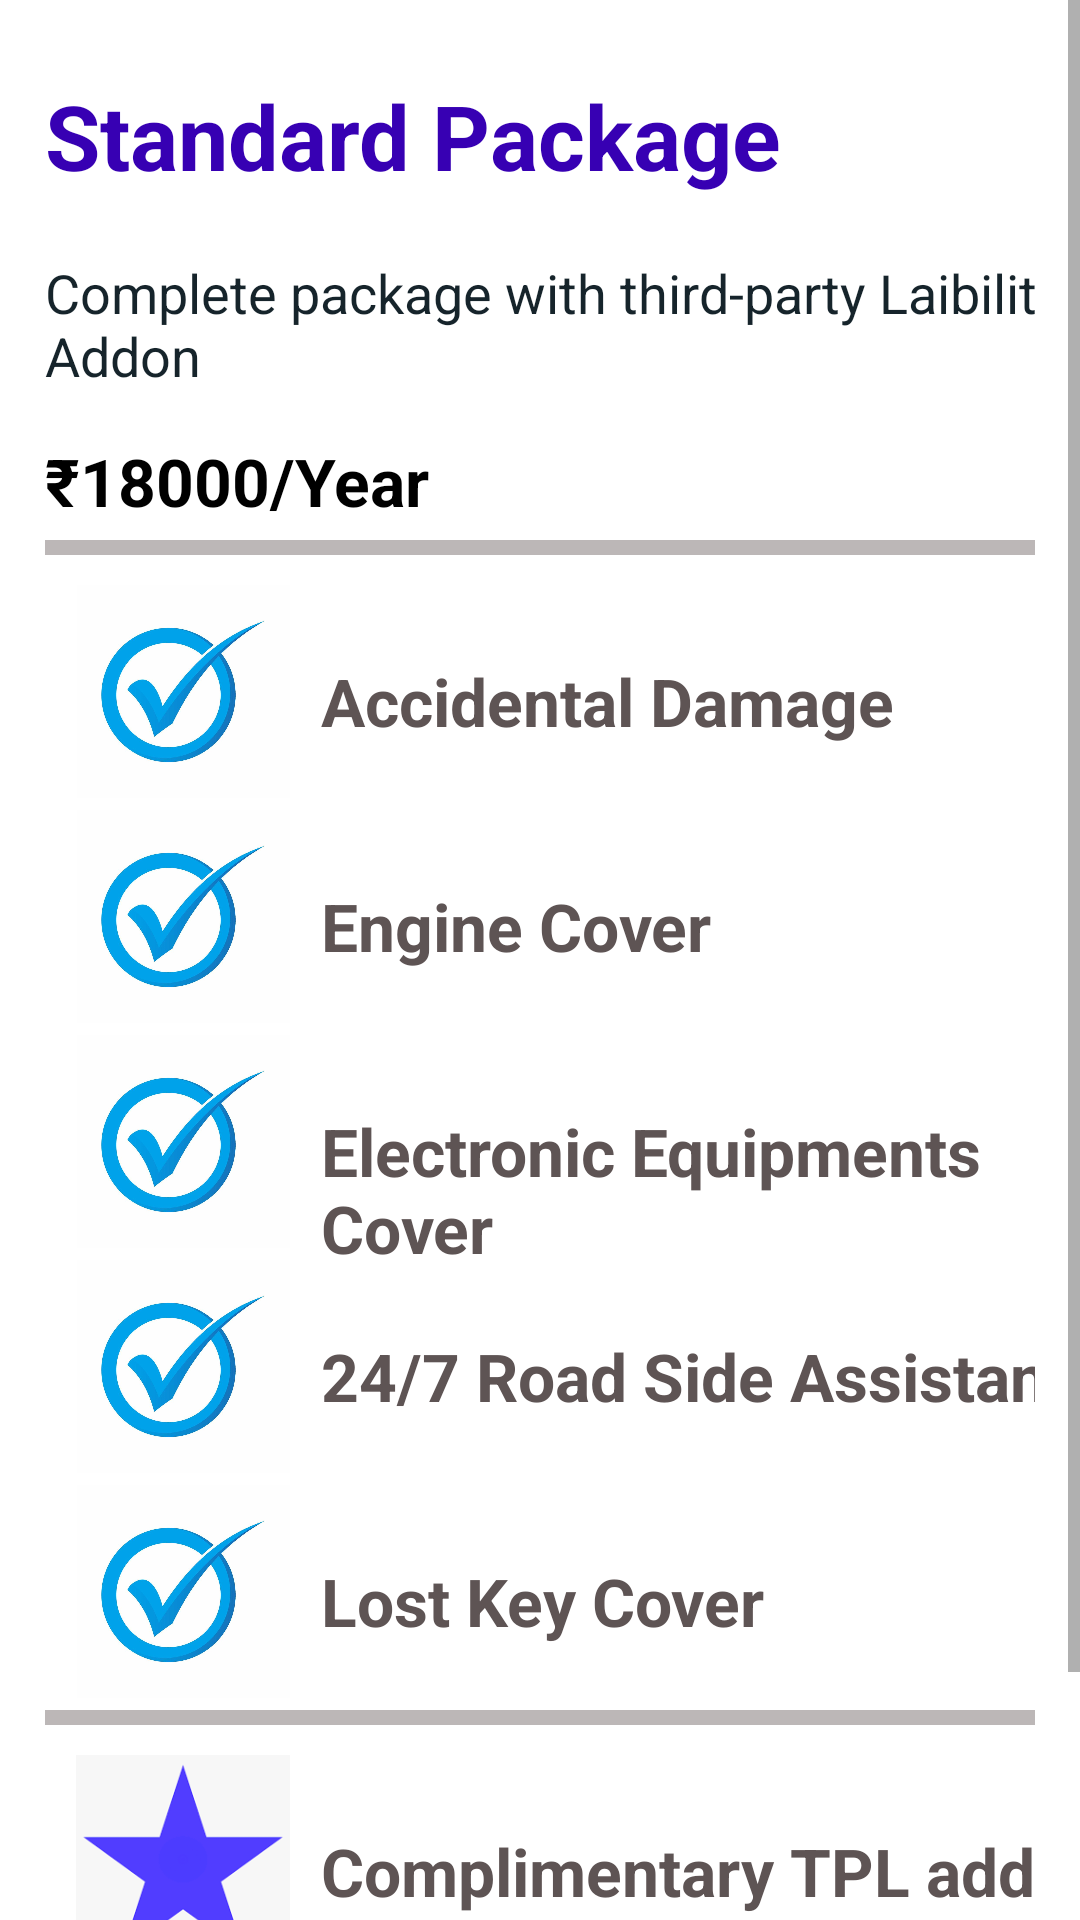

Named icons in this screenshot (1080w x 1920h) and their centers, (x=x, y=y):
tick: (x=182, y=691), (x=182, y=916), (x=182, y=1141), (x=182, y=1366), (x=182, y=1591)
